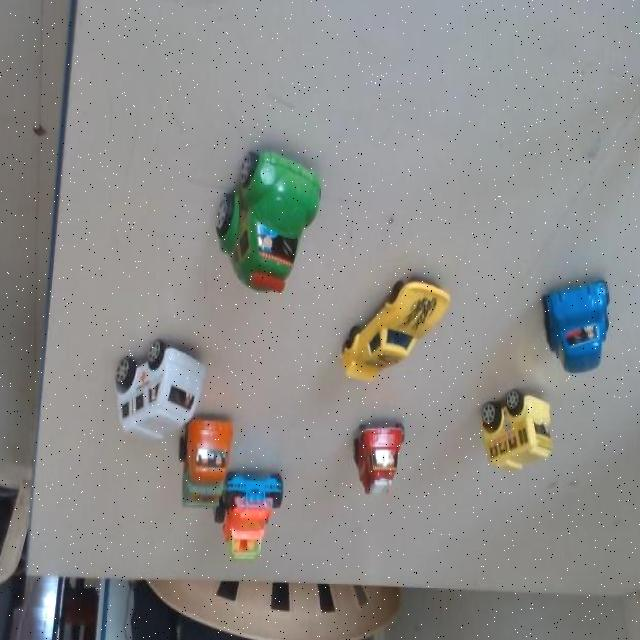car: (213, 157, 323, 289), (113, 330, 209, 448), (339, 281, 446, 379), (218, 468, 299, 570), (470, 382, 550, 473), (542, 279, 614, 373), (174, 410, 236, 518), (343, 409, 407, 502)
